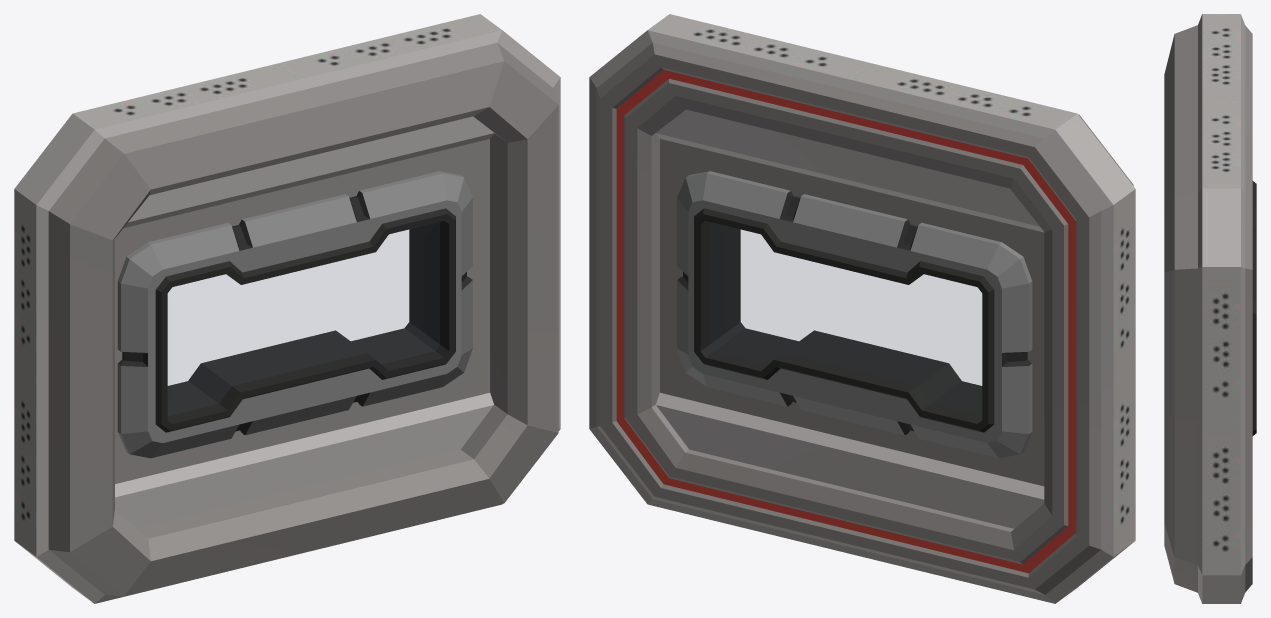
File: entity76778.glb
The picture shows the model from 3 angles, left to right: view 1: azimuth 30°, elevation 25°; view 2: azimuth 150°, elevation 25°; view 3: azimuth 270°, elevation 25°; orthographic projection. The views are drawn at different scales.
Parts seen in each view (by area): view 1: node_SM_Bld_Pod_Corridor_Square_End_01 (2), node_SM_Bld_Pod_Corridor_Square_End_01_Glass_01; view 2: node_SM_Bld_Pod_Corridor_Square_End_01 (2), node_SM_Bld_Pod_Corridor_Square_End_01_Glass_01; view 3: node_SM_Bld_Pod_Corridor_Square_End_01 (2).
Boxes of the visible parts, x1,y1,x2,y2 form: node_SM_Bld_Pod_Corridor_Square_End_01 (2): (14,14,560,603); node_SM_Bld_Pod_Corridor_Square_End_01_Glass_01: (168,222,439,415); node_SM_Bld_Pod_Corridor_Square_End_01 (2): (589,14,1135,603); node_SM_Bld_Pod_Corridor_Square_End_01_Glass_01: (710,222,981,415); node_SM_Bld_Pod_Corridor_Square_End_01 (2): (1164,14,1256,603).
Bounding box in the file's own units: 5.64 × 4.88 × 0.9837.
2 materials, 2 textured.
